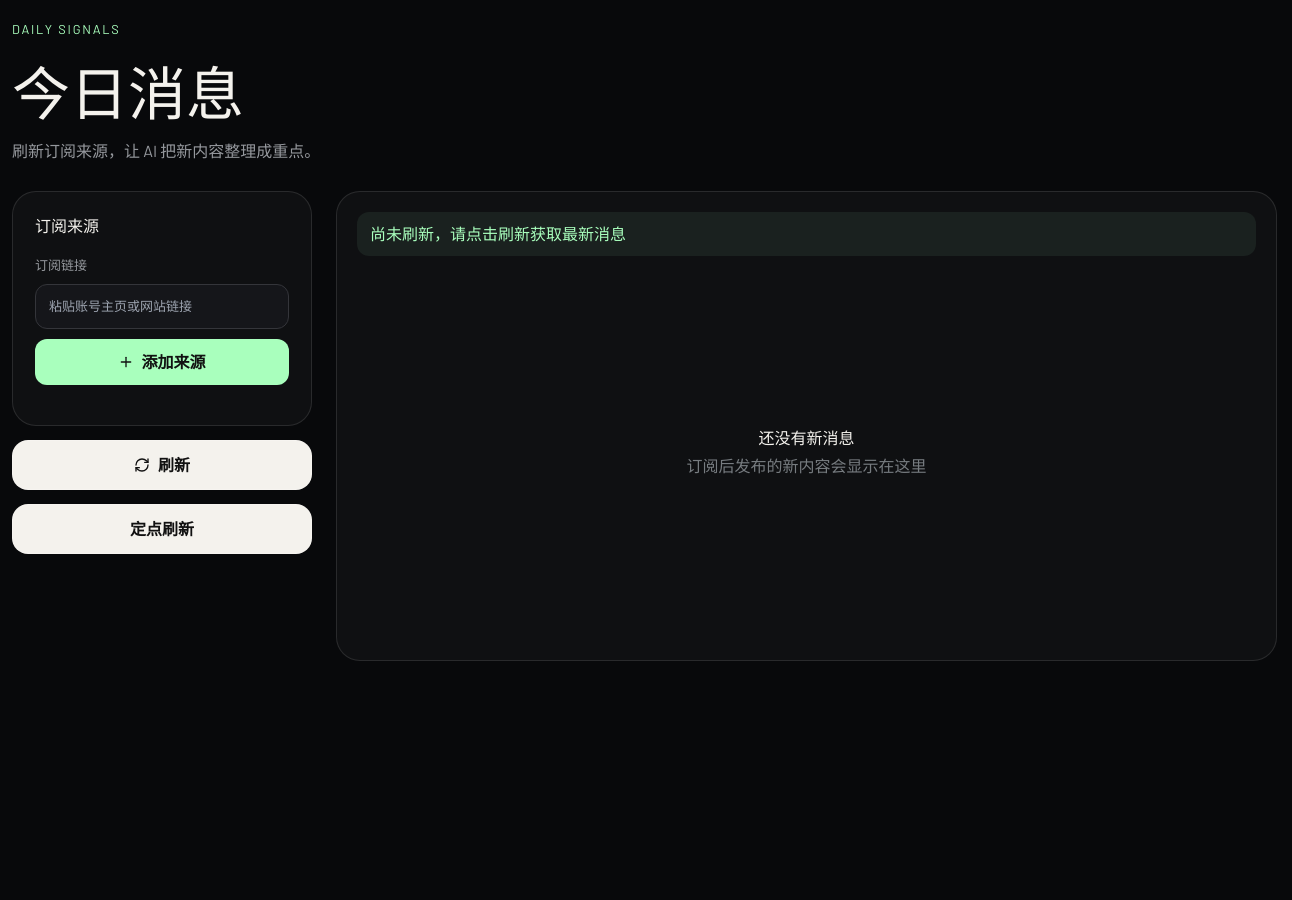
NewsWindow › rejects a platform homepage without creating a fake source
Step 1. Type "https://www.douyin.com/" into the field labelled "订阅链接" → (162, 306), box [35,284,289,329]
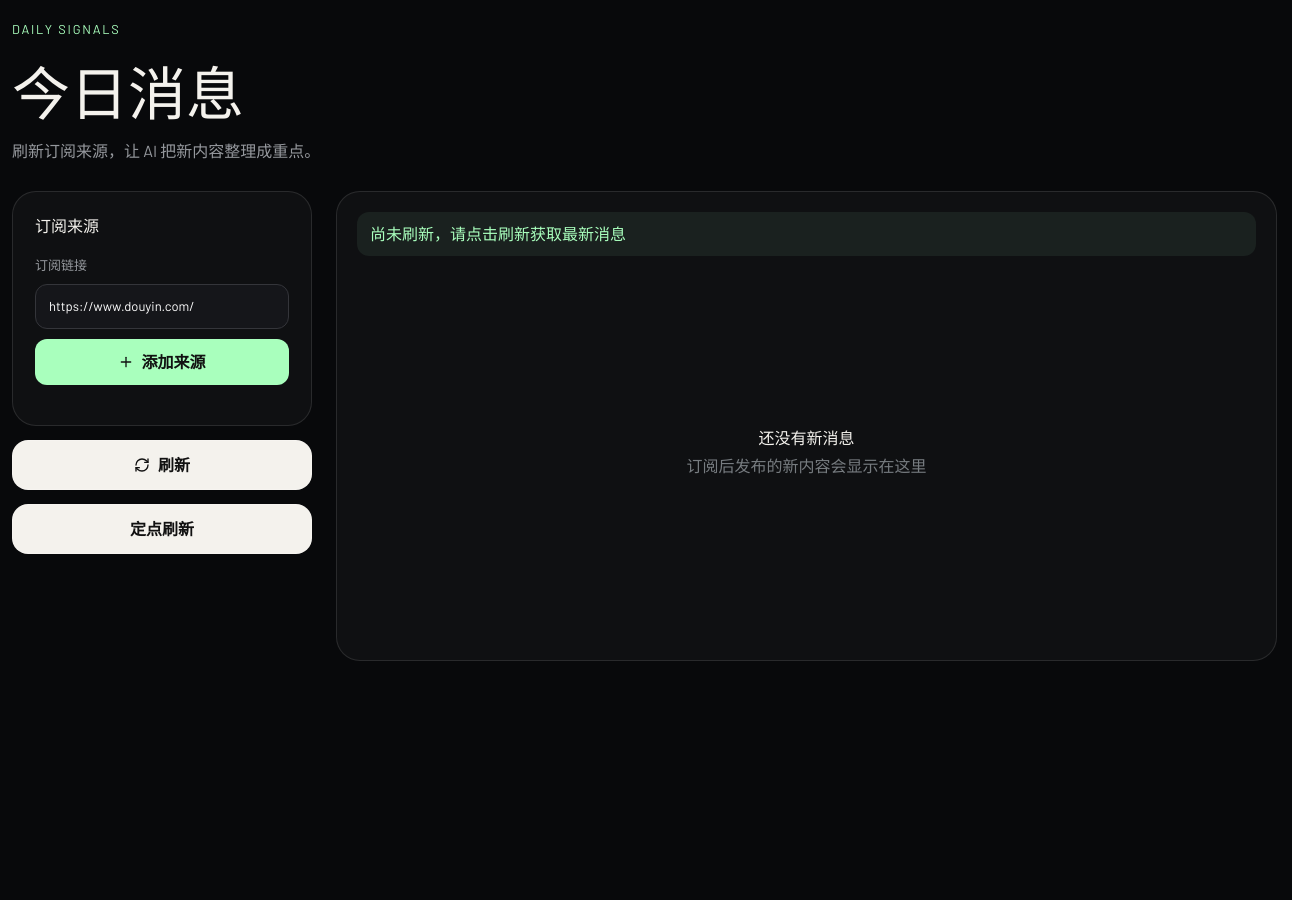
Step 2. Click the button "添加来源" → (162, 362), box [35,339,289,385]
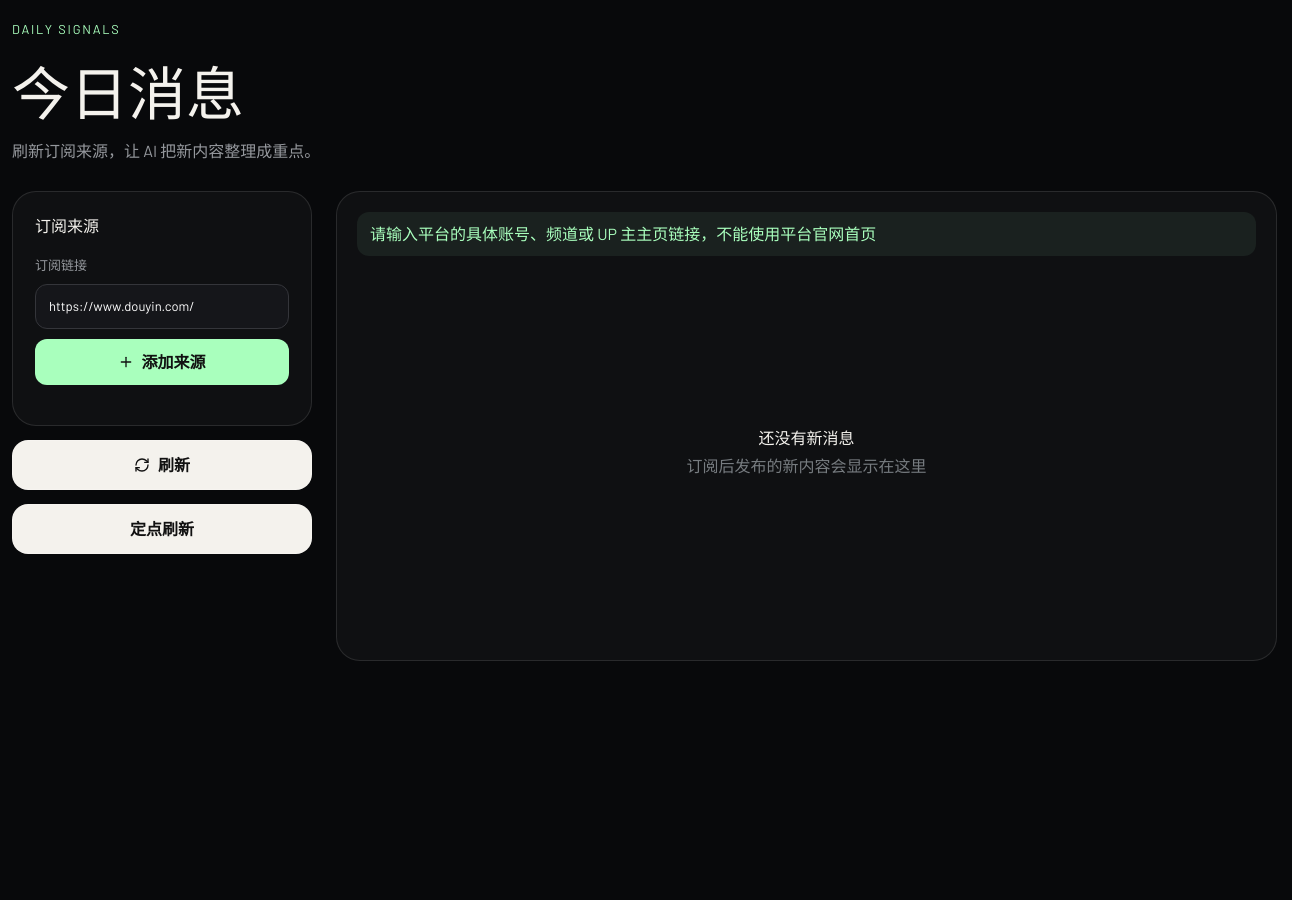
Check: the text "请输入平台的具体账号、频道或 UP 主主页链接，不能使用平台官网首页" is shown, box [357,212,1256,256]
